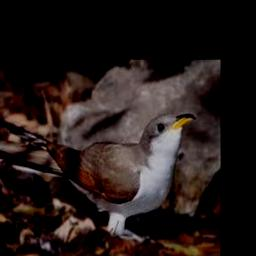Cuckoo: (0, 113, 196, 238)
